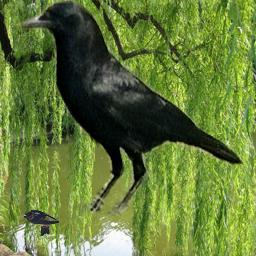Crow: (16, 0, 245, 216)
Swallow: (23, 209, 59, 236)
